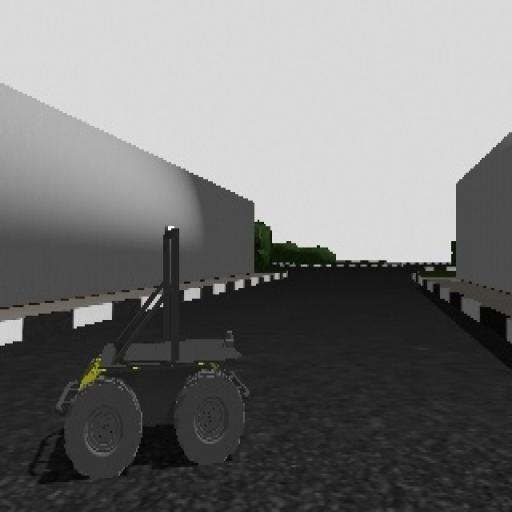huskya200: (46, 203, 268, 479)
